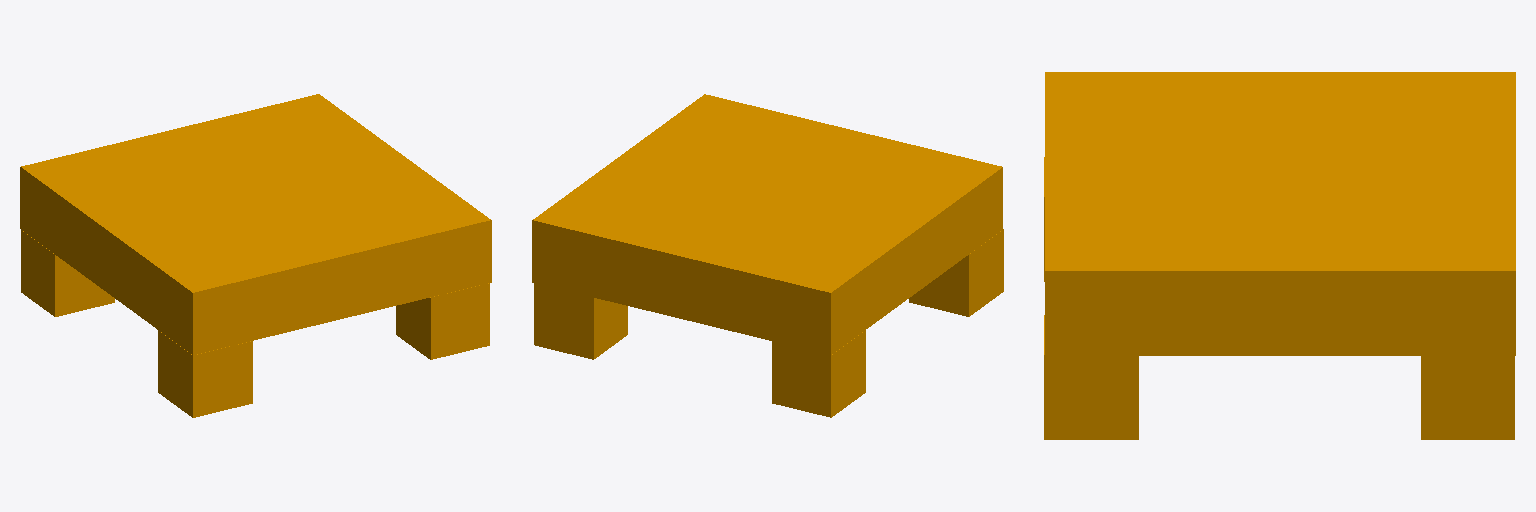
robot.urdf — table:
<?xml version="1.0" ?>
<robot name="table" xmlns:xacro="http://www.ros.org/wiki/xacro">
    <link name="table">
        <contact>
            <lateral_friction value="1.0"/>
        </contact>
        <inertial>
            <origin rpy="0 0 0" xyz="0 0 0"/>
            <mass value="0.0"/>
        <inertia ixx="0.02573" ixy="-4e-05" ixz="0" iyy="0.02567" iyz="-2e-05" izz="0.04522"/>
        </inertial>
        <visual>
            <origin rpy="0 0 0" xyz="0 0 0"/>
            <geometry>
                <mesh filename="package://kuka_gripper_description/meshes/table.obj"/>
            </geometry>
            <material name="table">
                <texture filename="package://kuka_gripper_description/meshes/table.png"/>
            </material>
        </visual>
        <collision>
            <origin rpy="0 0 0" xyz="0 0 0"/>
            <geometry>
                <mesh filename="package://kuka_gripper_description/meshes/table.obj"/>
            </geometry>
        </collision>
    </link>
</robot>

--- Render facts (derived) ---
Views: 3 orthographic renders of the robot side by side, from view 1: azimuth 30°, elevation 25°; view 2: azimuth 150°, elevation 25°; view 3: azimuth 270°, elevation 25°.
Robot: table — 1 links, 0 joints (none); root link table; default pose: every joint at zero.
Links seen in each view (by area): view 1: table; view 2: table; view 3: table.
Boxes of the visible links, x1,y1,x2,y2 form: table: (20,94,491,417); table: (532,94,1003,417); table: (1044,72,1515,439).
Size in the robot's own frame: 0.5002 by 0.5003 by 0.2002 metres.
Meshes: 1 distinct files referenced, 1 mesh visuals loaded (1 OBJ).